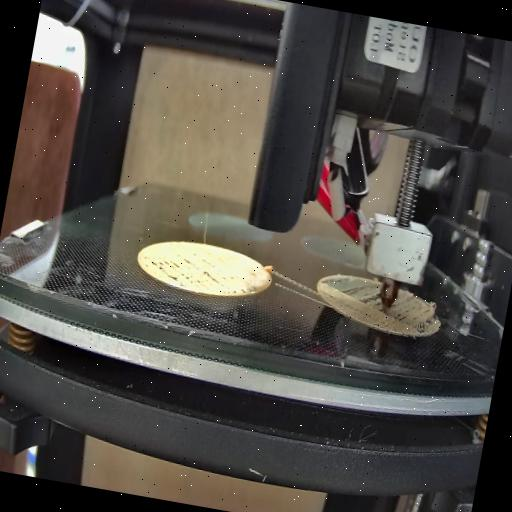under_extrusion: (135, 250, 263, 298), (392, 285, 440, 331), (340, 272, 384, 314)
